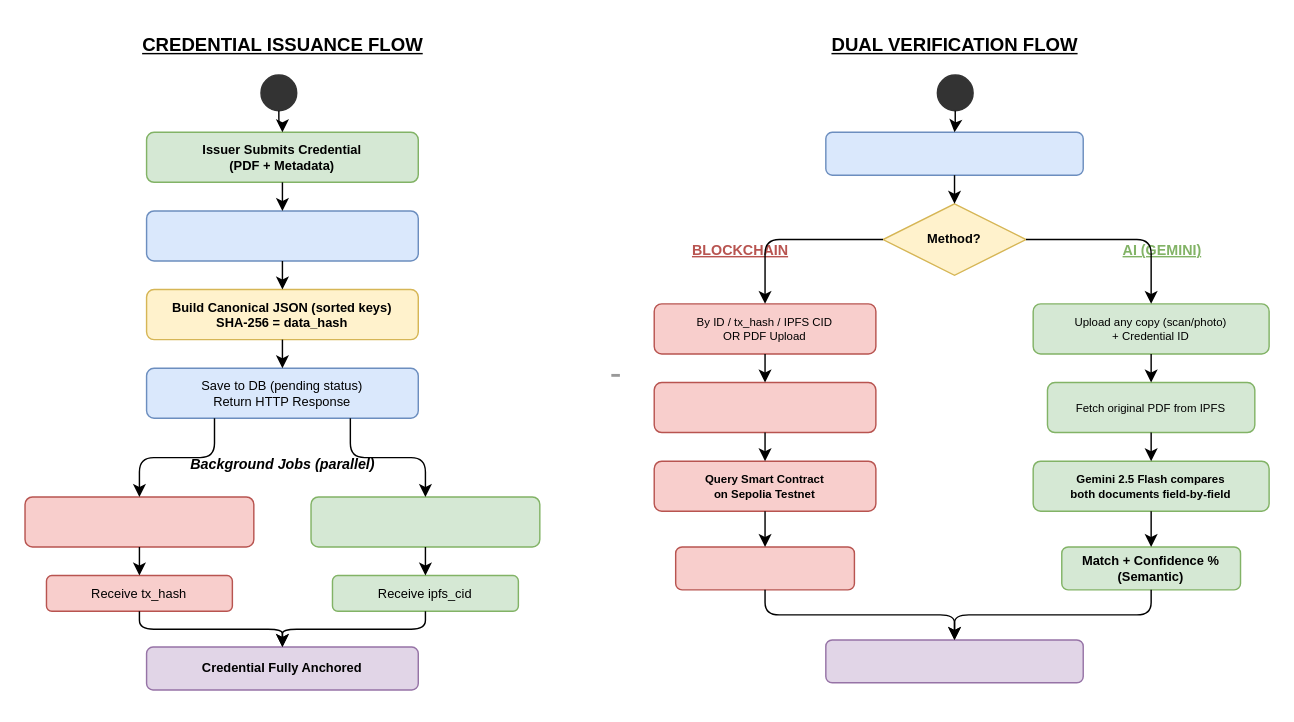
Image size: 1294x722. Some labels were removed from this diagram. The centre of each missing label's shape, as x and y in pixels:
Blockchain Anchoring Smart Contract on Sepolia: pixel 139 521
Generate UUID, Embed in PDF SHA-256(PDF) = checksum: pixel 281 235
Re-compute canonical hash Compare with stored data_hash: pixel 764 407
Upload PDF to IPFS: pixel 425 521
VALID / INVALID (Deterministic): pixel 764 568
Verification Complete: pixel 953 660
Verifier Provides Input: pixel 953 153
